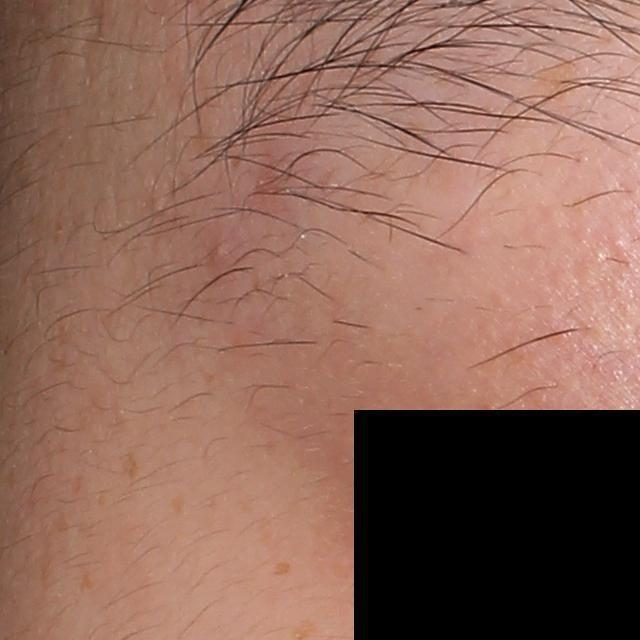melasma: (120, 445, 140, 484), (68, 469, 87, 499), (291, 620, 319, 640), (76, 568, 97, 592), (166, 492, 188, 511), (272, 561, 295, 577)
